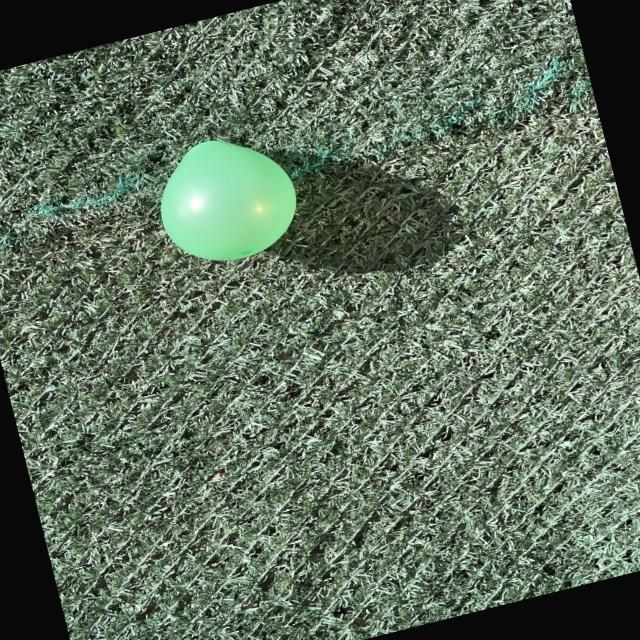balloon: (161, 140, 296, 260)
